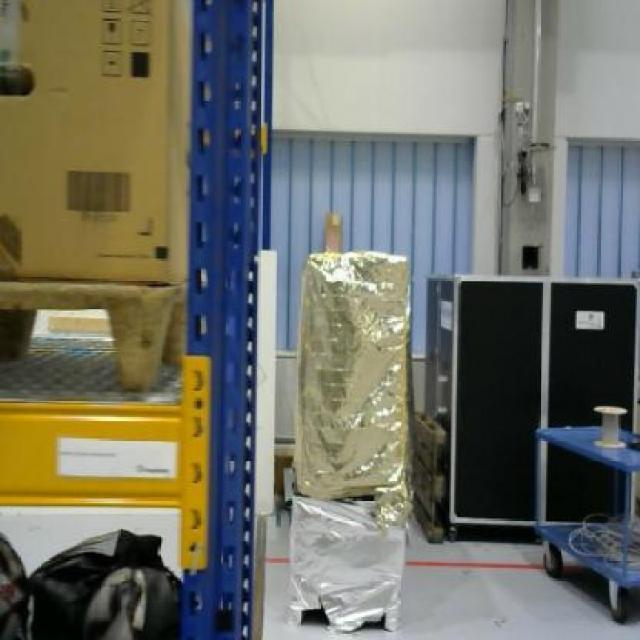box: (0, 0, 187, 278)
